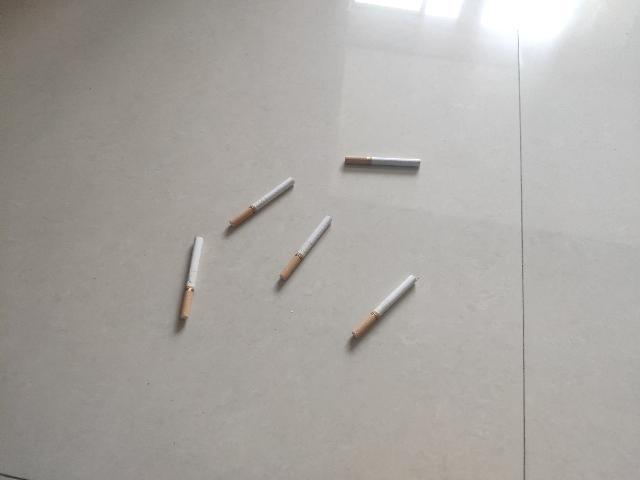Smoking: (353, 275, 417, 338), (280, 216, 332, 281), (230, 176, 294, 228), (179, 236, 203, 320), (345, 156, 421, 168)
